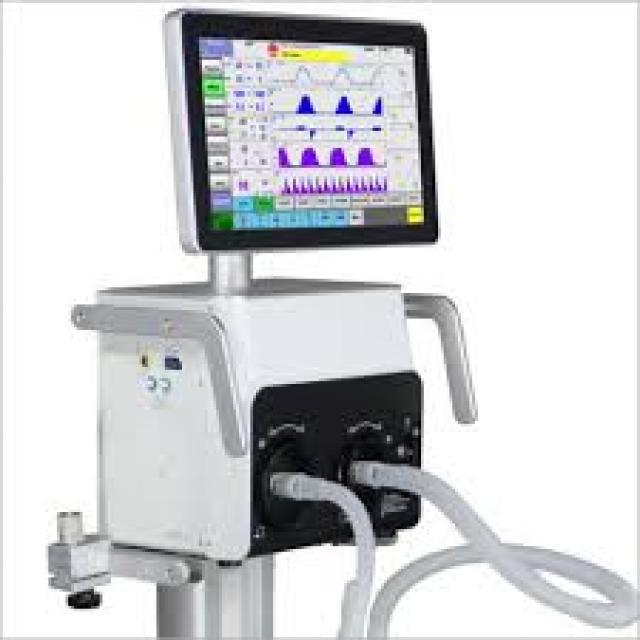cardiac_monitor: (181, 23, 443, 270)
ventilator: (126, 11, 577, 640)
